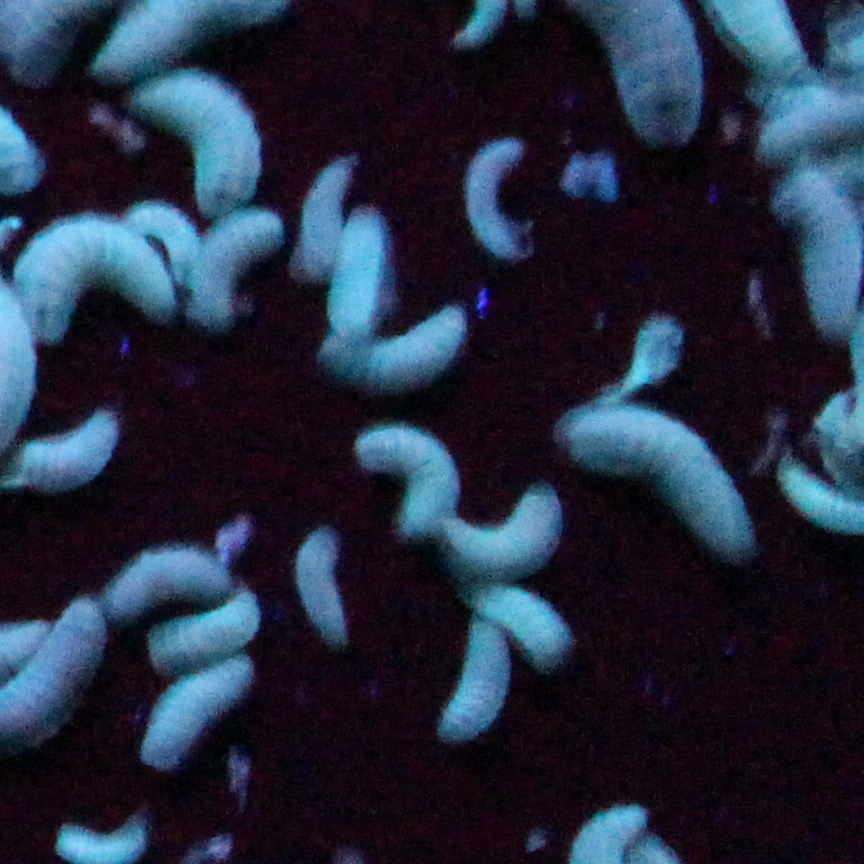larve: (555, 398, 771, 567), (11, 219, 182, 342), (140, 71, 257, 205), (352, 419, 459, 546), (138, 657, 252, 771), (180, 209, 284, 323), (323, 303, 469, 384), (150, 586, 269, 671), (463, 132, 540, 263), (444, 490, 561, 576), (109, 542, 238, 617), (294, 526, 363, 648), (469, 590, 573, 665), (332, 203, 390, 334), (446, 623, 507, 742)
